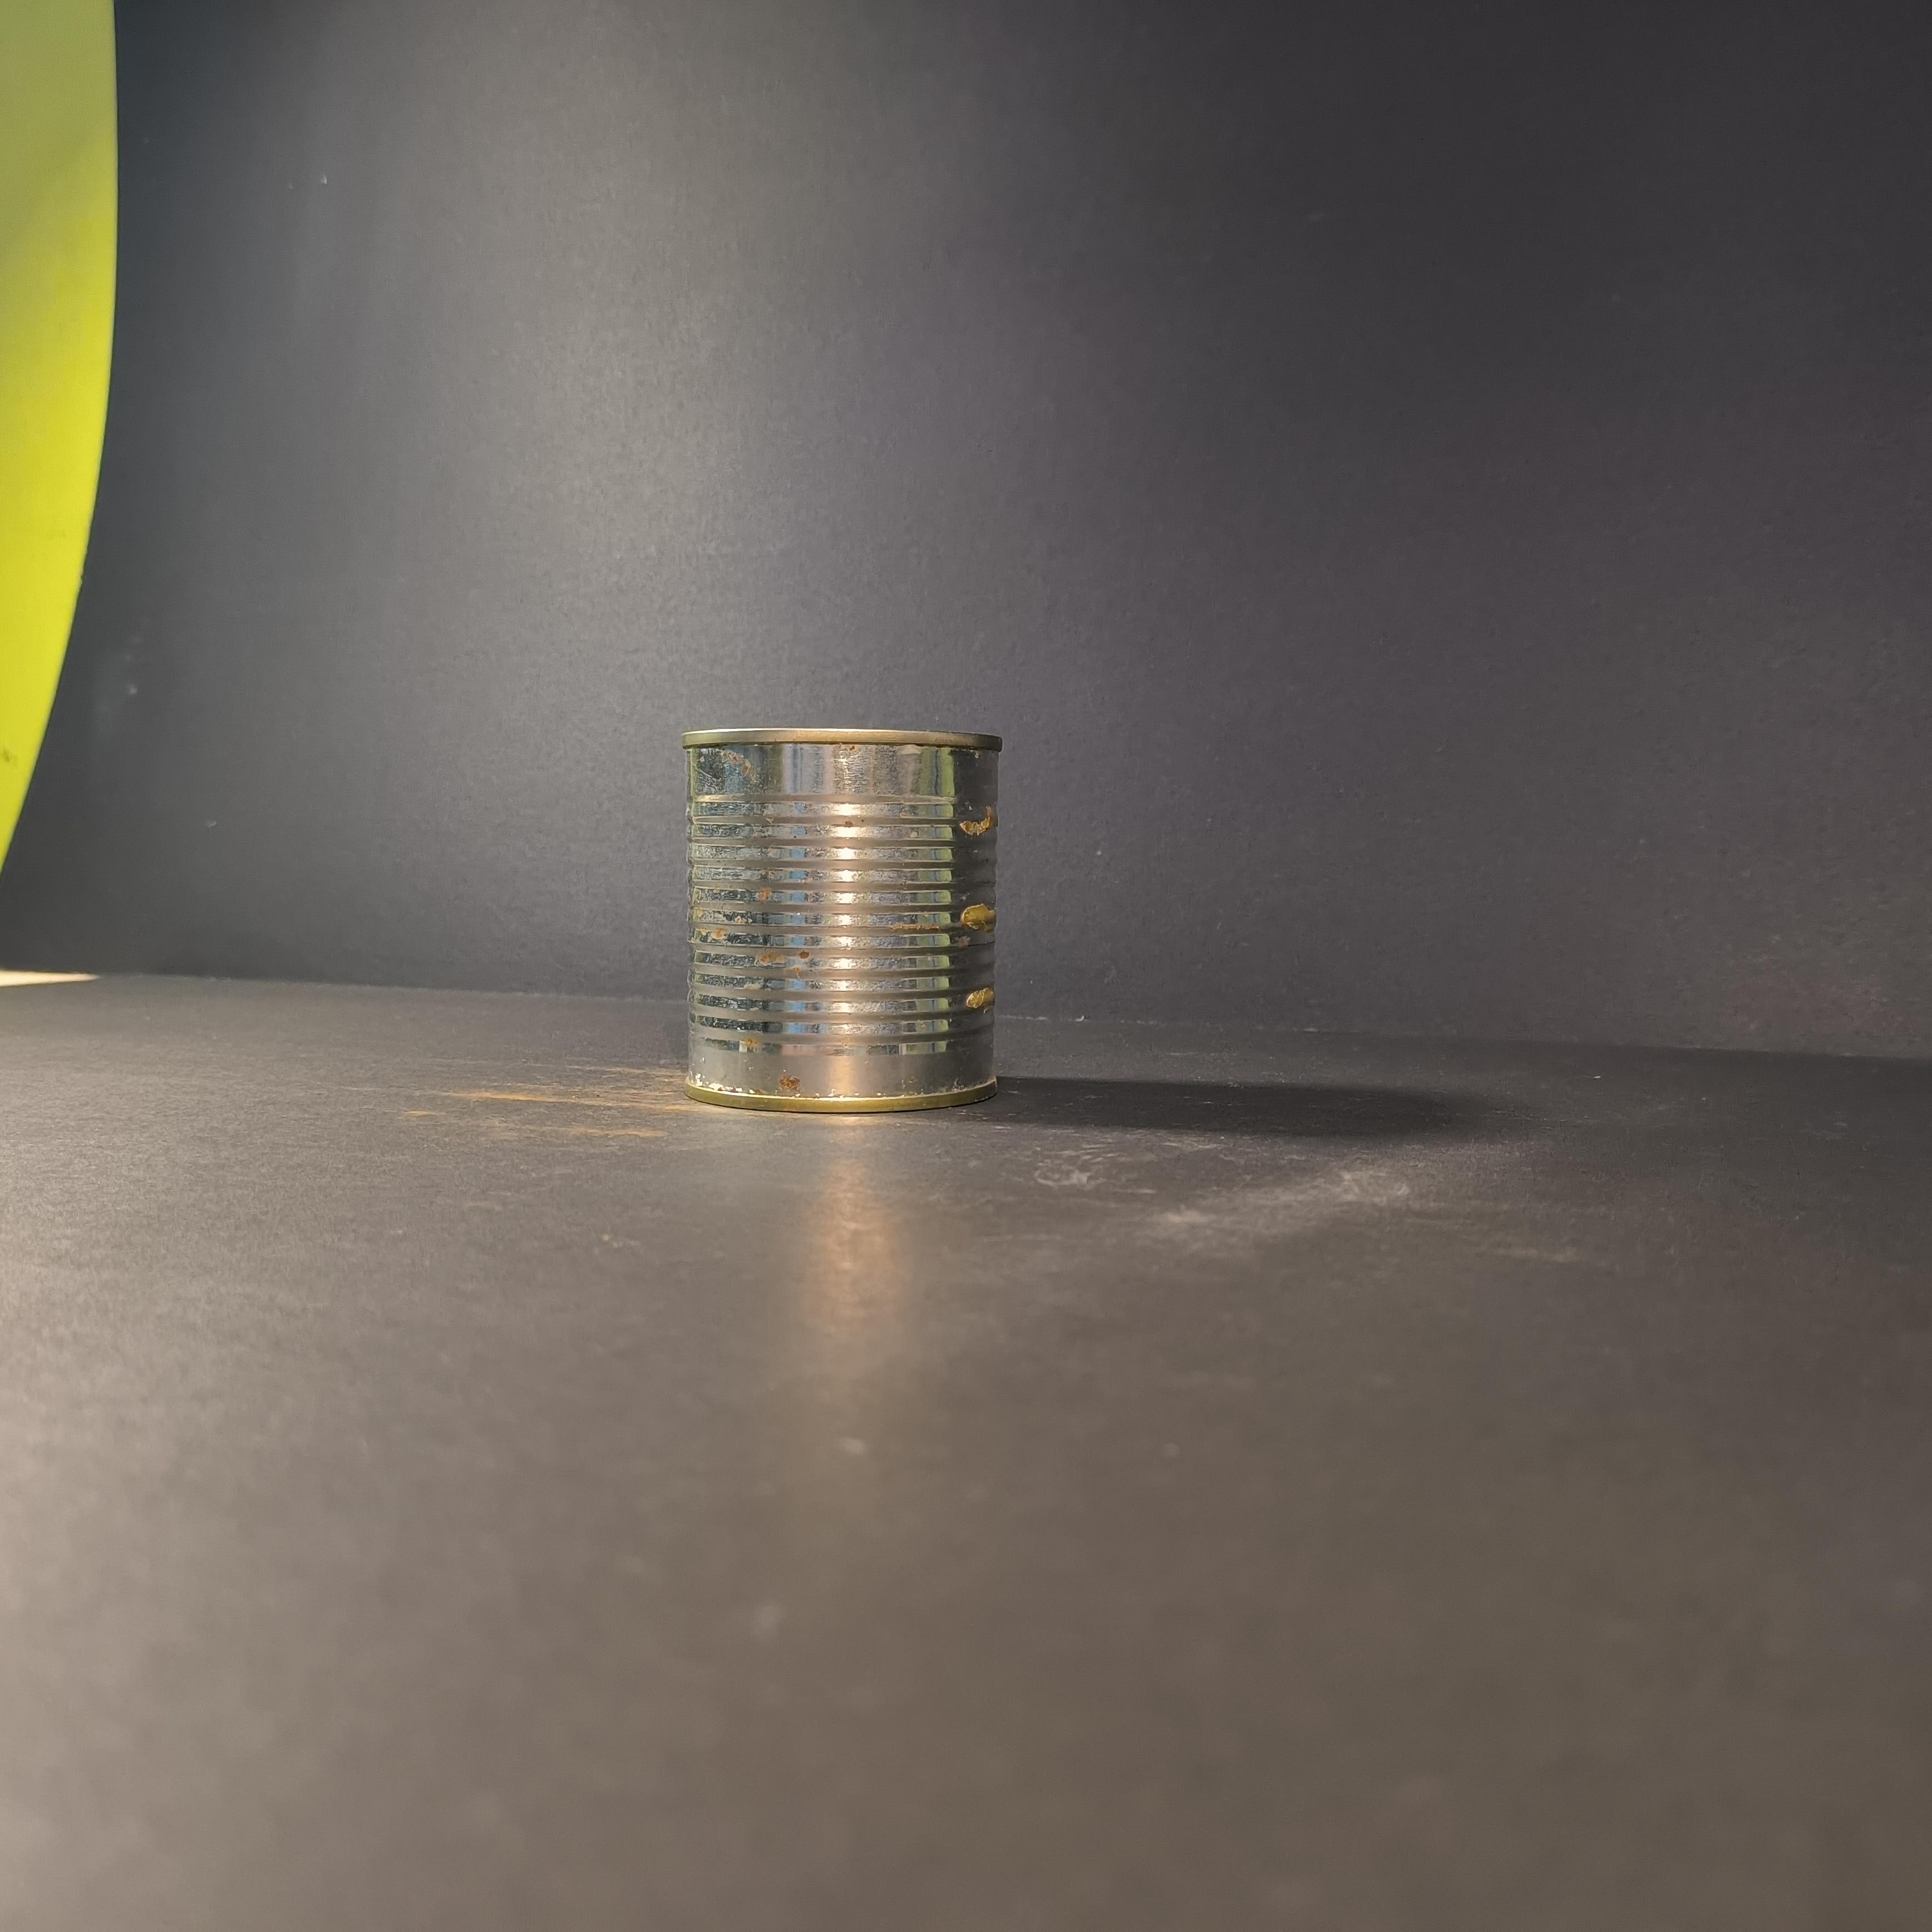Minor Defect: (679, 727, 1005, 1115)
